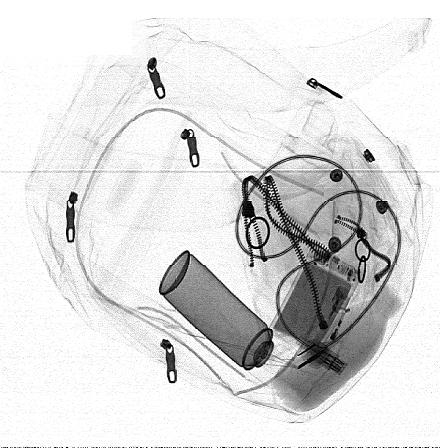Lighter: (302, 285, 359, 370)
Powerbank: (270, 243, 363, 358)
Sprayer: (159, 251, 302, 390)
